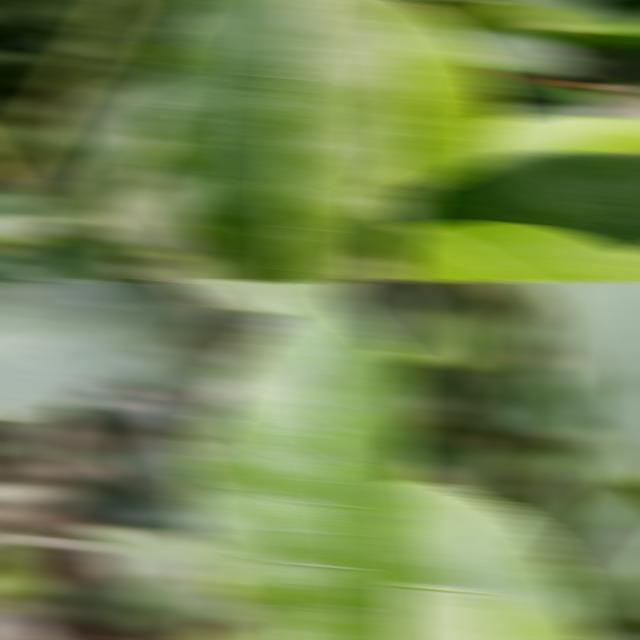Leaf: (182, 280, 414, 640), (142, 0, 414, 282), (392, 482, 593, 640), (0, 280, 209, 421), (402, 151, 640, 252), (392, 0, 510, 190), (540, 280, 640, 482), (64, 75, 168, 221), (392, 221, 640, 282), (68, 524, 223, 620), (508, 280, 589, 390), (463, 115, 640, 165), (0, 238, 128, 282), (428, 312, 506, 371), (0, 182, 72, 242), (504, 385, 581, 439), (392, 362, 440, 443), (392, 307, 450, 367), (0, 522, 36, 601), (144, 254, 240, 282), (364, 182, 414, 228)
